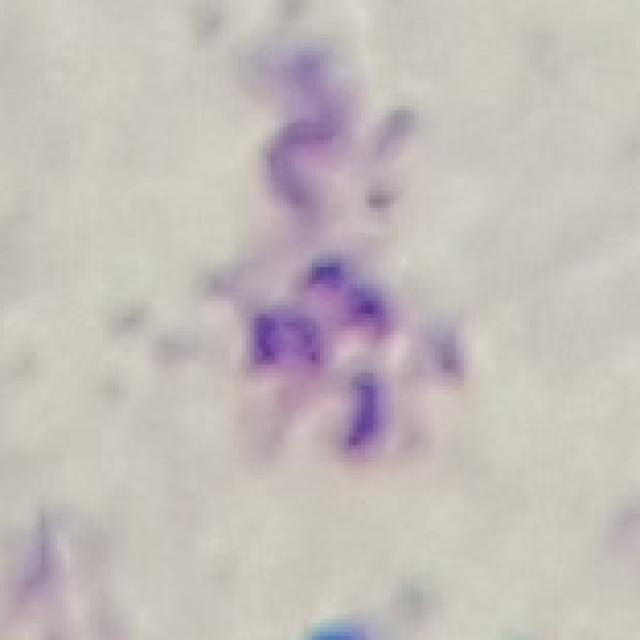non-sperm: (240, 245, 396, 458)
